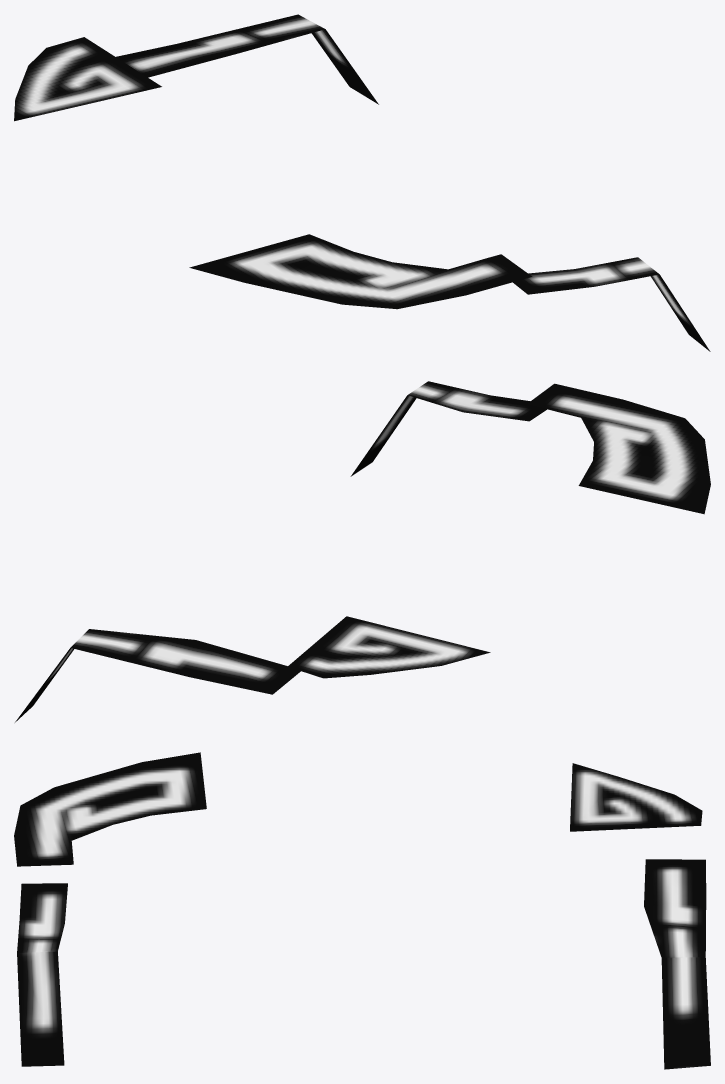
Rendered from Post_right.fbx.
The picture shows the model from 3 angles, top to bottom: view 1: azimuth 30°, elevation 25°; view 2: azimuth 150°, elevation 25°; view 3: azimuth 270°, elevation 25°; orthographic projection. The views are drawn at different scales.
Visible parts, largest first — view 1: Post_right; view 2: Post_right; view 3: Post_right.
Boxes of the visible parts, x1,y1,x2,y2 form: Post_right: (14,14,710,351); Post_right: (15,381,710,722); Post_right: (14,752,710,1069).
Bounding box in the file's own units: 396 × 108 × 579.
Materials: 1 (1 with a texture image).
